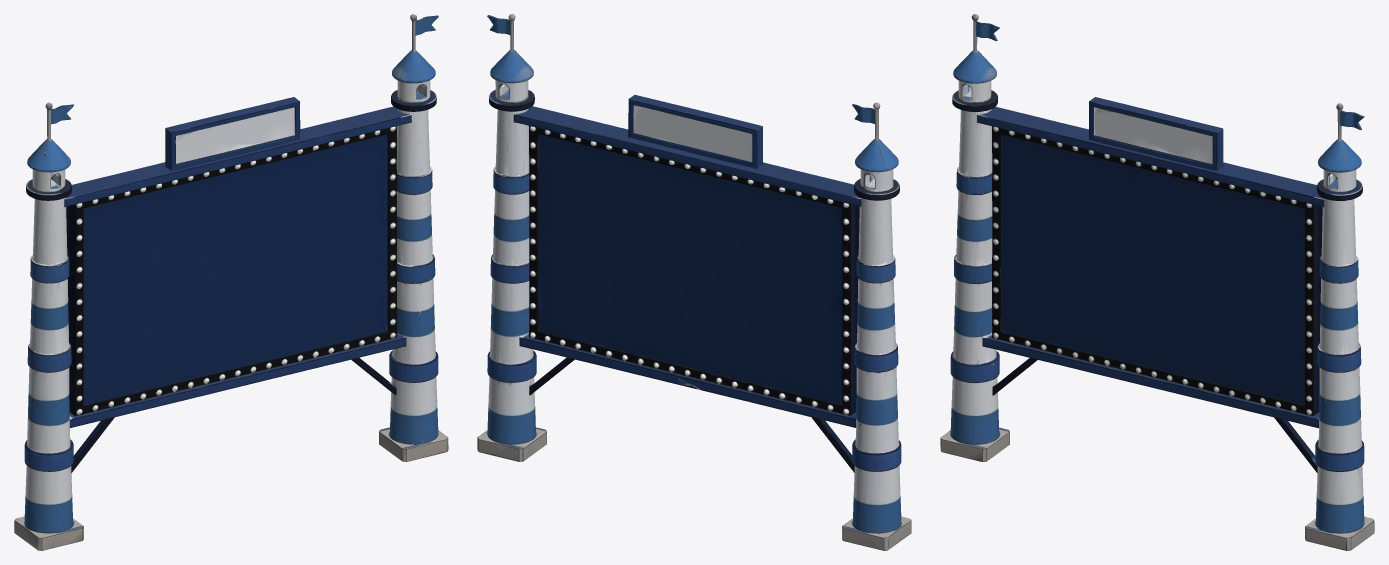
The model's file is board.glb.
The picture shows the model from 3 angles, left to right: view 1: azimuth 30°, elevation 25°; view 2: azimuth 150°, elevation 25°; view 3: azimuth 330°, elevation 25°; orthographic projection.
Bounding box in the file's own units: 1.89 × 1.9 × 0.2124.
1 material, 1 textured.
